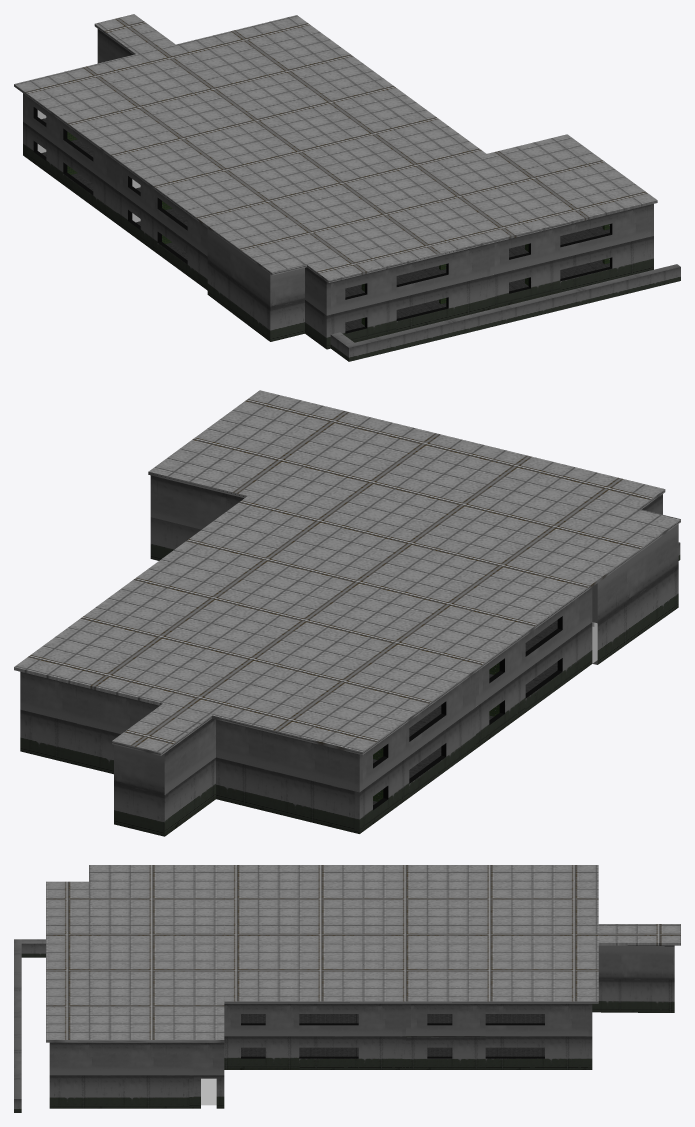
The model's file is Hotel.fbx.
The picture shows the model from 3 angles, top to bottom: view 1: azimuth 30°, elevation 25°; view 2: azimuth 150°, elevation 25°; view 3: azimuth 270°, elevation 25°; orthographic projection. The views are drawn at different scales.
Visible parts, largest first — view 1: Roof, Bottom, Top, Floor_Top; view 2: Roof, Bottom, Top, Floor_Top; view 3: Roof, Bottom, Top, Floor_Top, Floor_Bottom.
Boxes of the visible parts, left/top/right/bottom form: Roof: left=14, top=14, right=657, bottom=282; Bottom: left=23, top=63, right=680, bottom=361; Top: left=23, top=29, right=653, bottom=315; Floor_Top: left=41, top=118, right=609, bottom=297; Roof: left=14, top=390, right=680, bottom=755; Bottom: left=20, top=517, right=680, bottom=836; Top: left=20, top=475, right=678, bottom=794; Floor_Top: left=373, top=620, right=597, bottom=763; Roof: left=46, top=865, right=680, bottom=1042; Bottom: left=14, top=939, right=674, bottom=1112; Top: left=49, top=945, right=674, bottom=1075; Floor_Top: left=241, top=1014, right=544, bottom=1023; Floor_Bottom: left=201, top=1078, right=216, bottom=1105.
Bounding box in the file's own units: 35.53 × 6.44 × 56.14.
